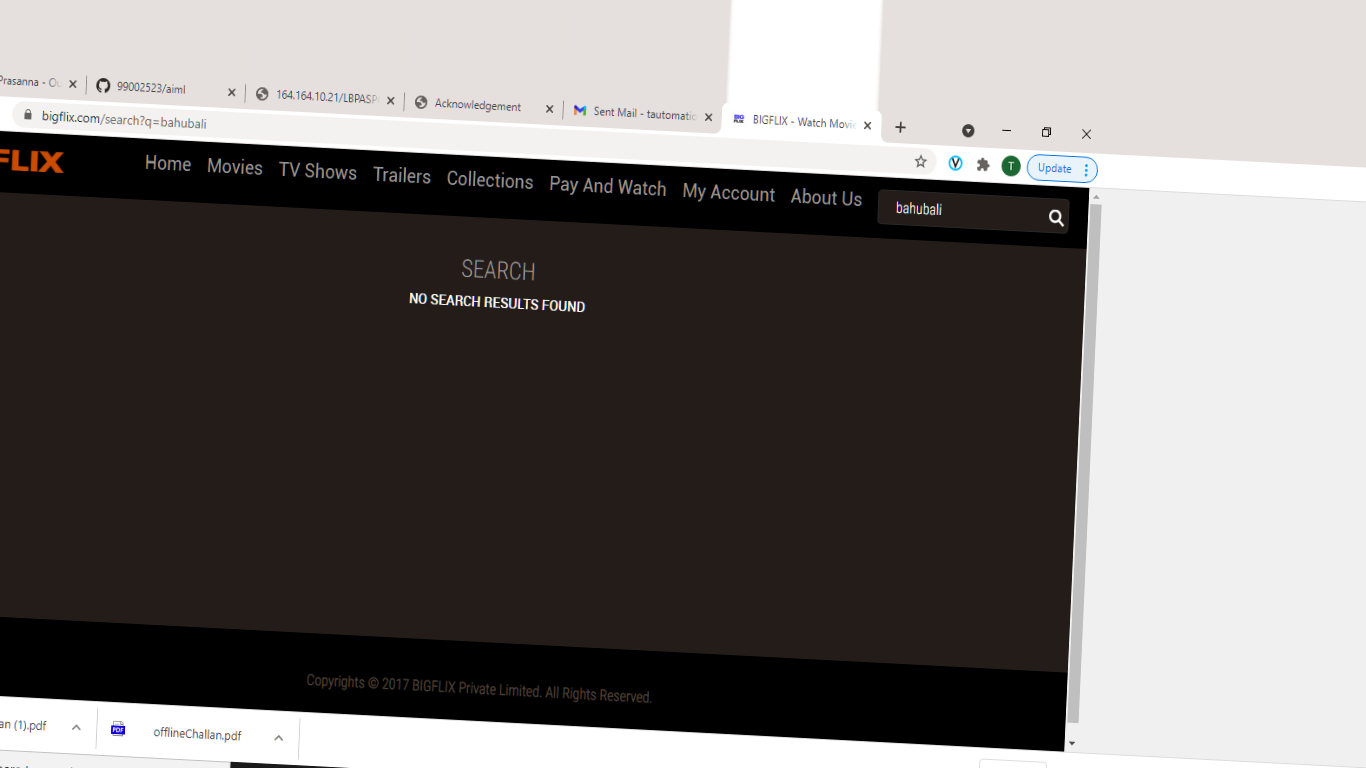myaccountbutton: (677, 175, 783, 223)
noresultsfound: (383, 240, 596, 335)
searchicon: (1034, 204, 1074, 234)
searchtextbox: (857, 185, 1085, 240)
